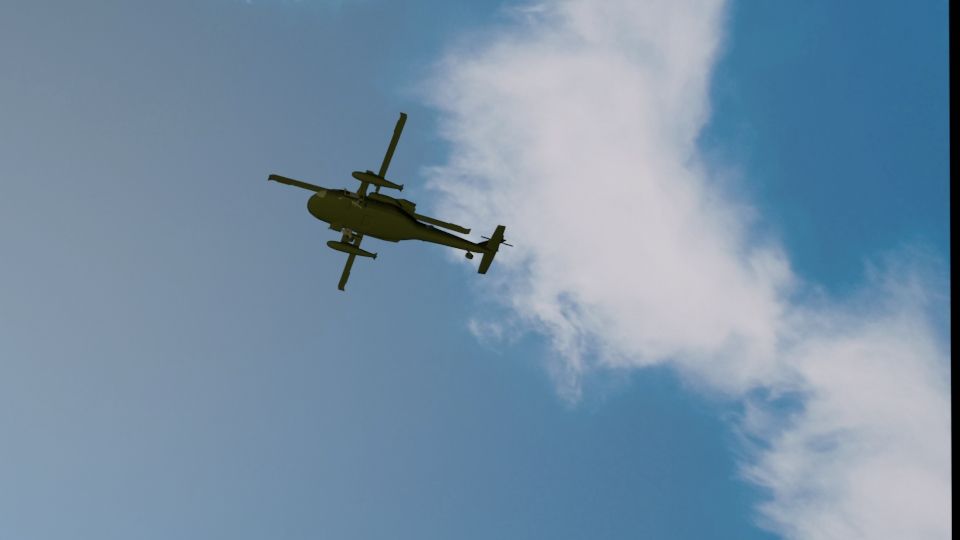heli: (261, 112, 508, 291)
